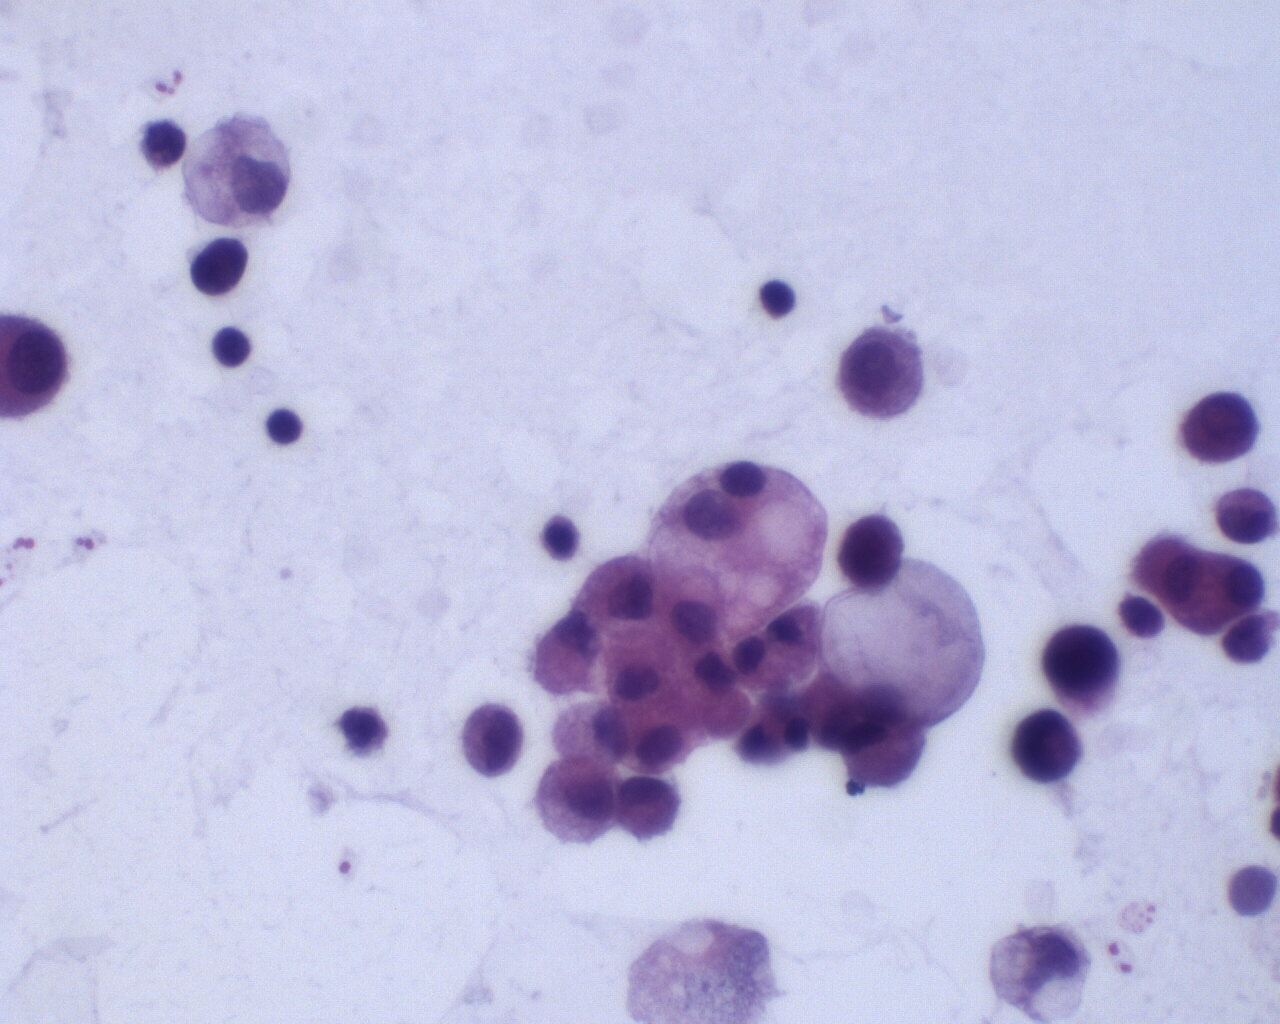ab: (1040, 620, 1126, 709), (1173, 385, 1262, 471), (1005, 705, 1087, 787), (834, 509, 907, 594), (460, 698, 526, 779), (1214, 481, 1280, 551)
histo: (820, 559, 985, 727), (180, 116, 302, 231)
lymph: (210, 321, 256, 373), (757, 276, 802, 323), (263, 401, 308, 448)
meso: (831, 325, 930, 421), (534, 757, 619, 847), (601, 631, 676, 706), (625, 699, 698, 768)
